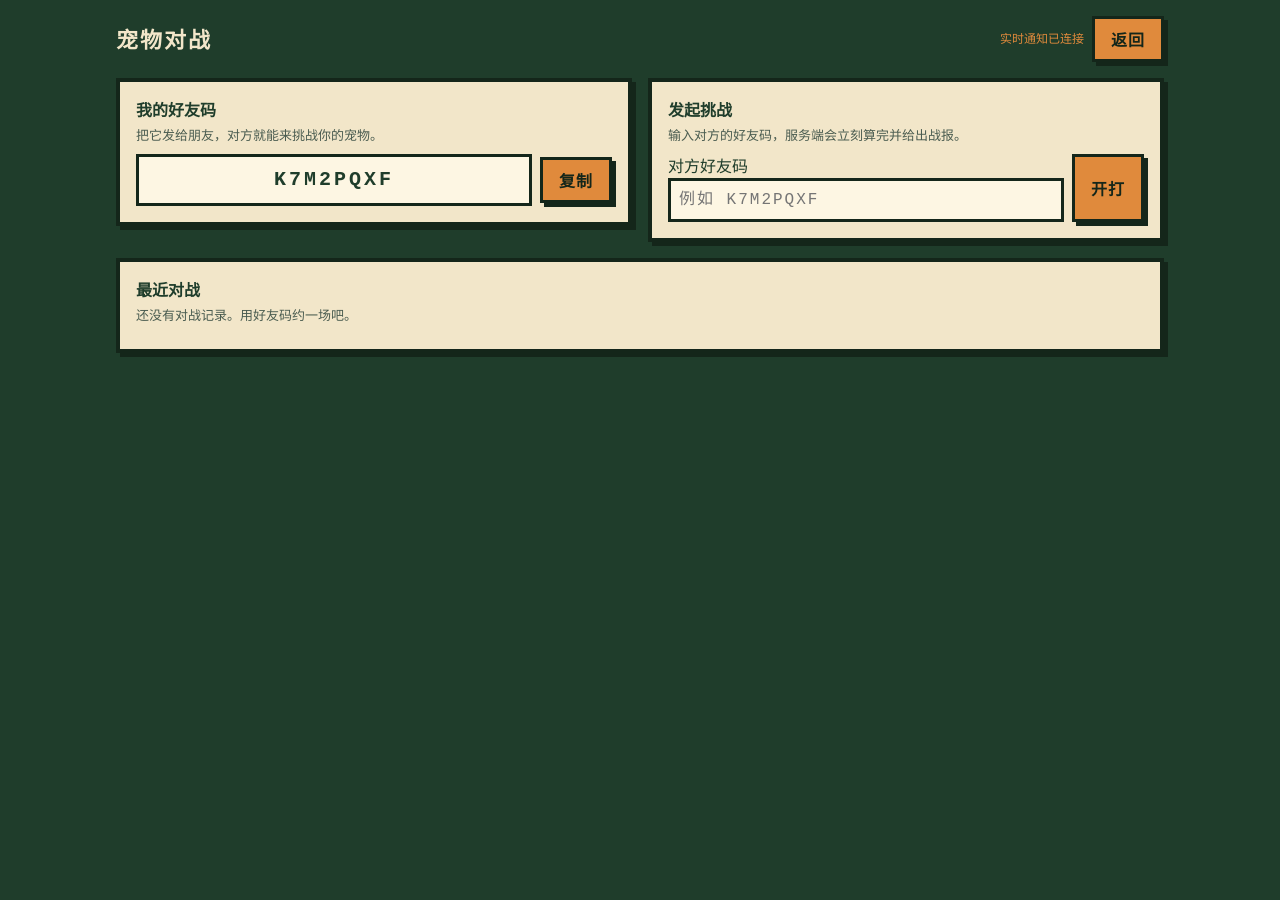
Scenario: BattleView › 填好友码点开打 -> 调接口并展示战报
The width and height of the screenshot is (1280, 900).
Expected: the text "K7M2PQXF" is shown, top-left (136, 154), bottom-right (532, 206)
Type "k7m2pqxf" into the field with class "challenge-input" at (866, 200), box top-left (668, 178), bottom-right (1064, 222)
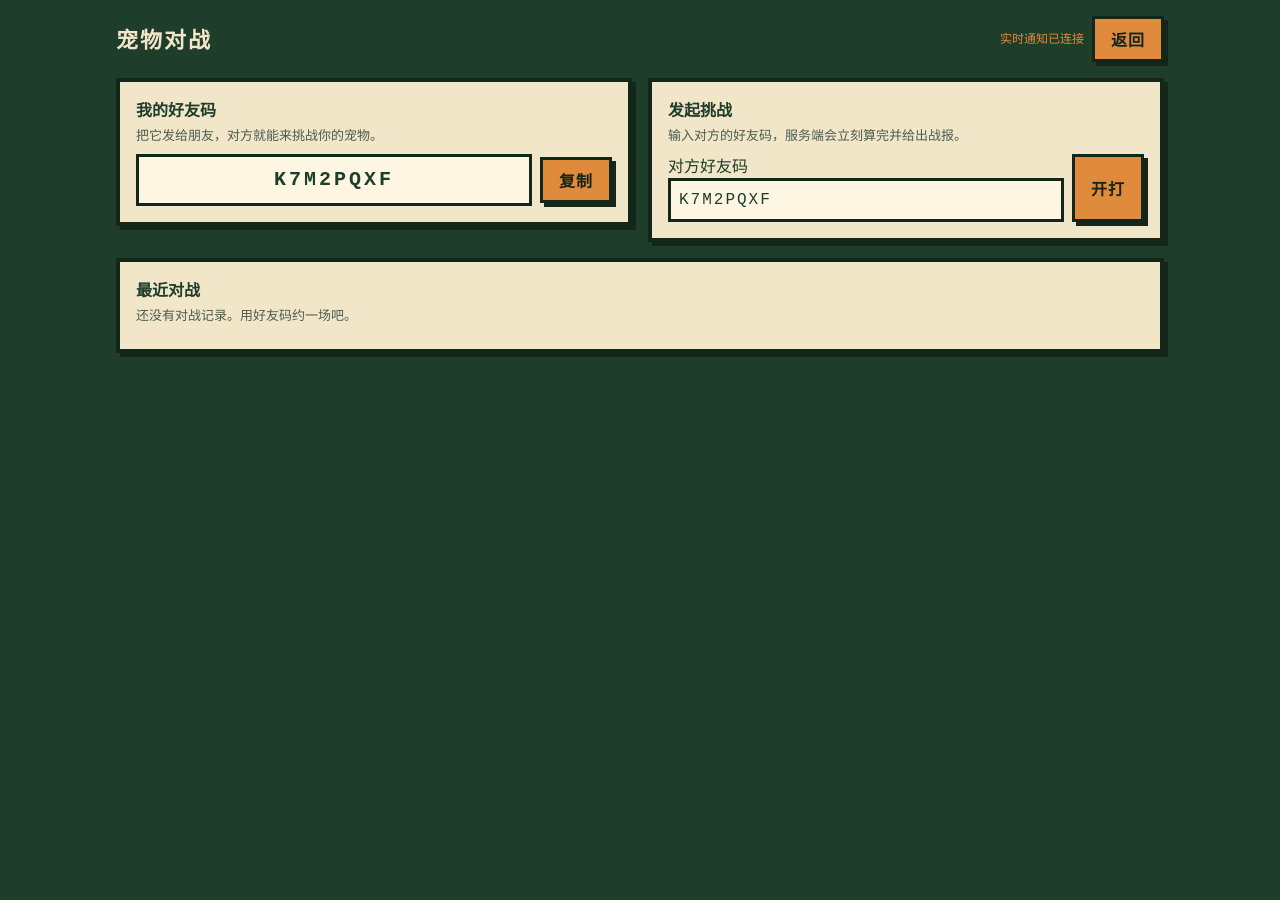
Click the button "开打" at (1108, 188), box top-left (1072, 154), bottom-right (1144, 222)
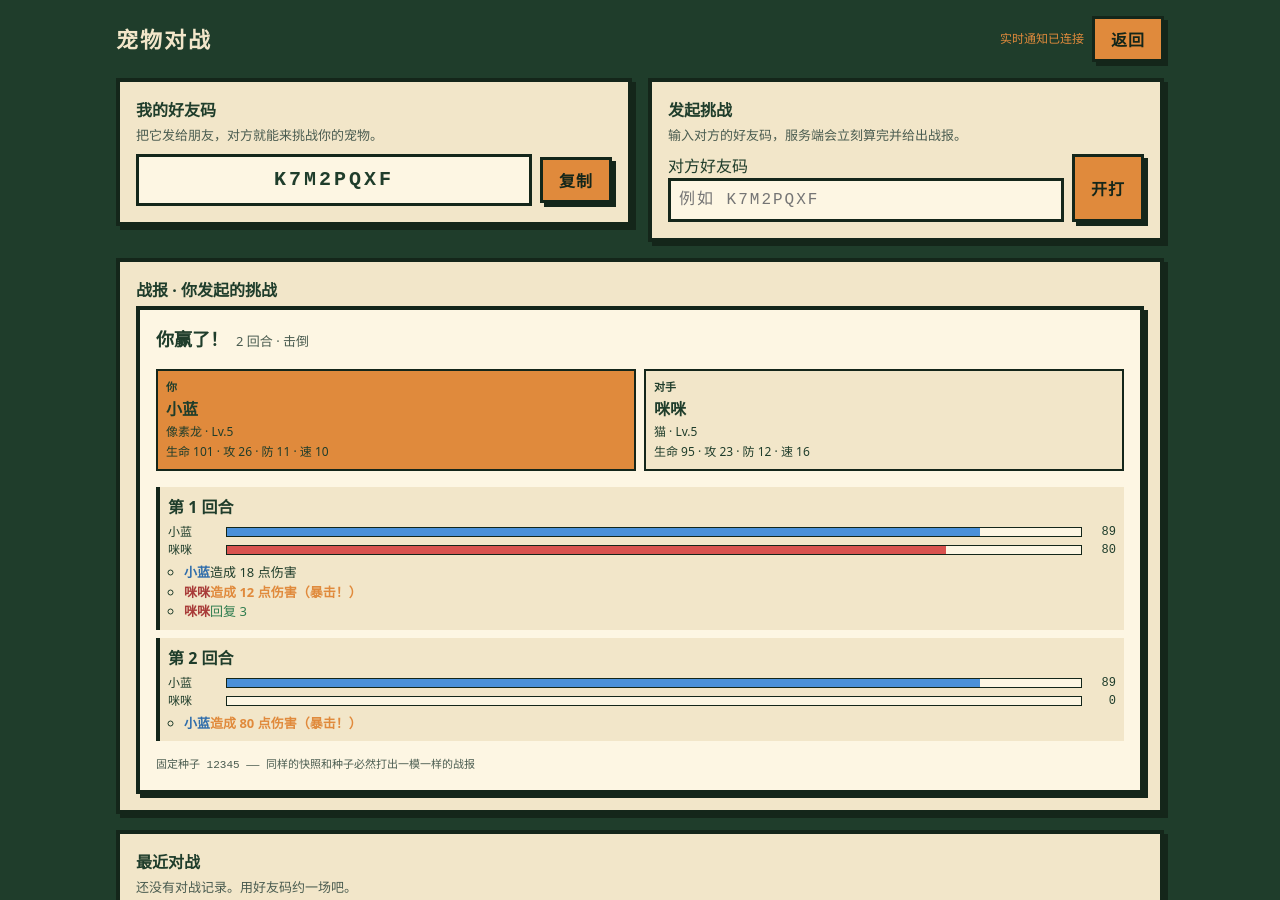
Expected: the element with class "battle-report" is shown, top-left (136, 306), bottom-right (1144, 794)
Expected: the text "你赢了" is shown, top-left (156, 326), bottom-right (228, 350)
